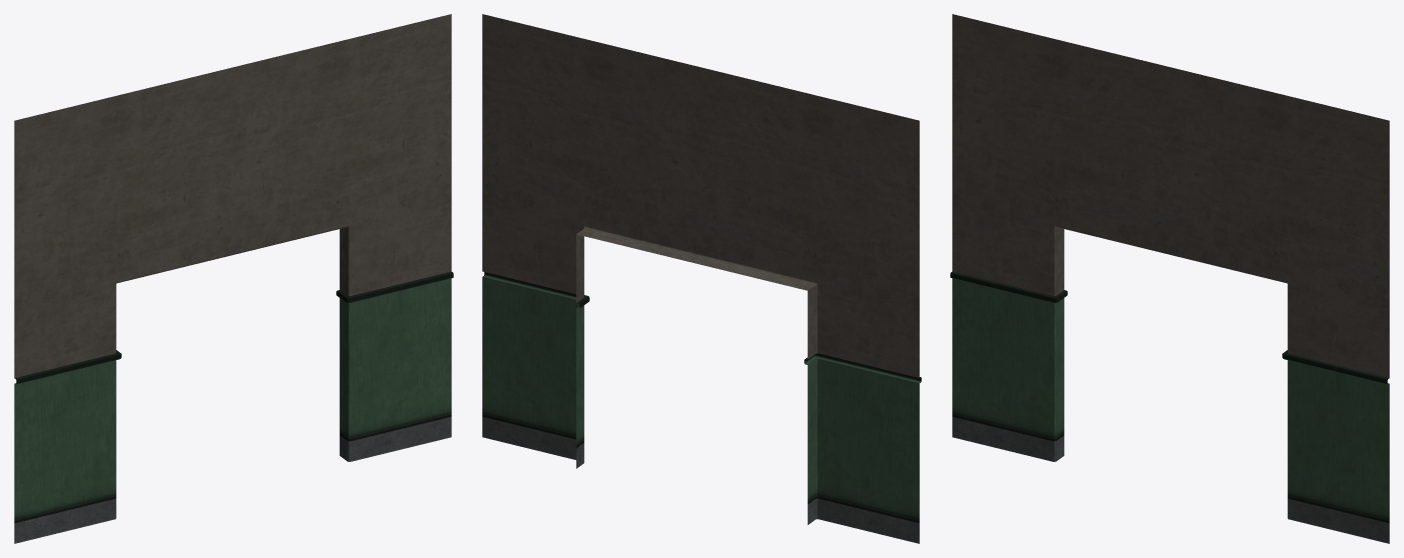
File: Psychiatric_Ward_Infirmary_Wall_4m_Door_B_Bare.glb
The picture shows the model from 3 angles, left to right: view 1: azimuth 30°, elevation 25°; view 2: azimuth 150°, elevation 25°; view 3: azimuth 330°, elevation 25°; orthographic projection.
Visible parts, largest first — view 1: Psychiatric_Ward_Infirmary_Wall_4m_Door_B_Bare; view 2: Psychiatric_Ward_Infirmary_Wall_4m_Door_B_Bare; view 3: Psychiatric_Ward_Infirmary_Wall_4m_Door_B_Bare.
Boxes of the visible parts, box(x1,y1,x2,y2) form: Psychiatric_Ward_Infirmary_Wall_4m_Door_B_Bare: box(14, 14, 453, 543); Psychiatric_Ward_Infirmary_Wall_4m_Door_B_Bare: box(482, 14, 921, 543); Psychiatric_Ward_Infirmary_Wall_4m_Door_B_Bare: box(950, 14, 1389, 543).
Bounding box in the file's own units: 4 × 3.7 × 0.1737.
Materials: 2 (2 with a texture image).
